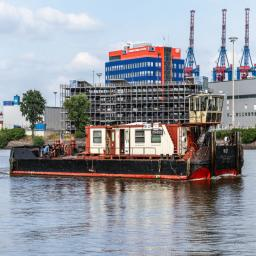tugboat: (8, 89, 247, 185)
